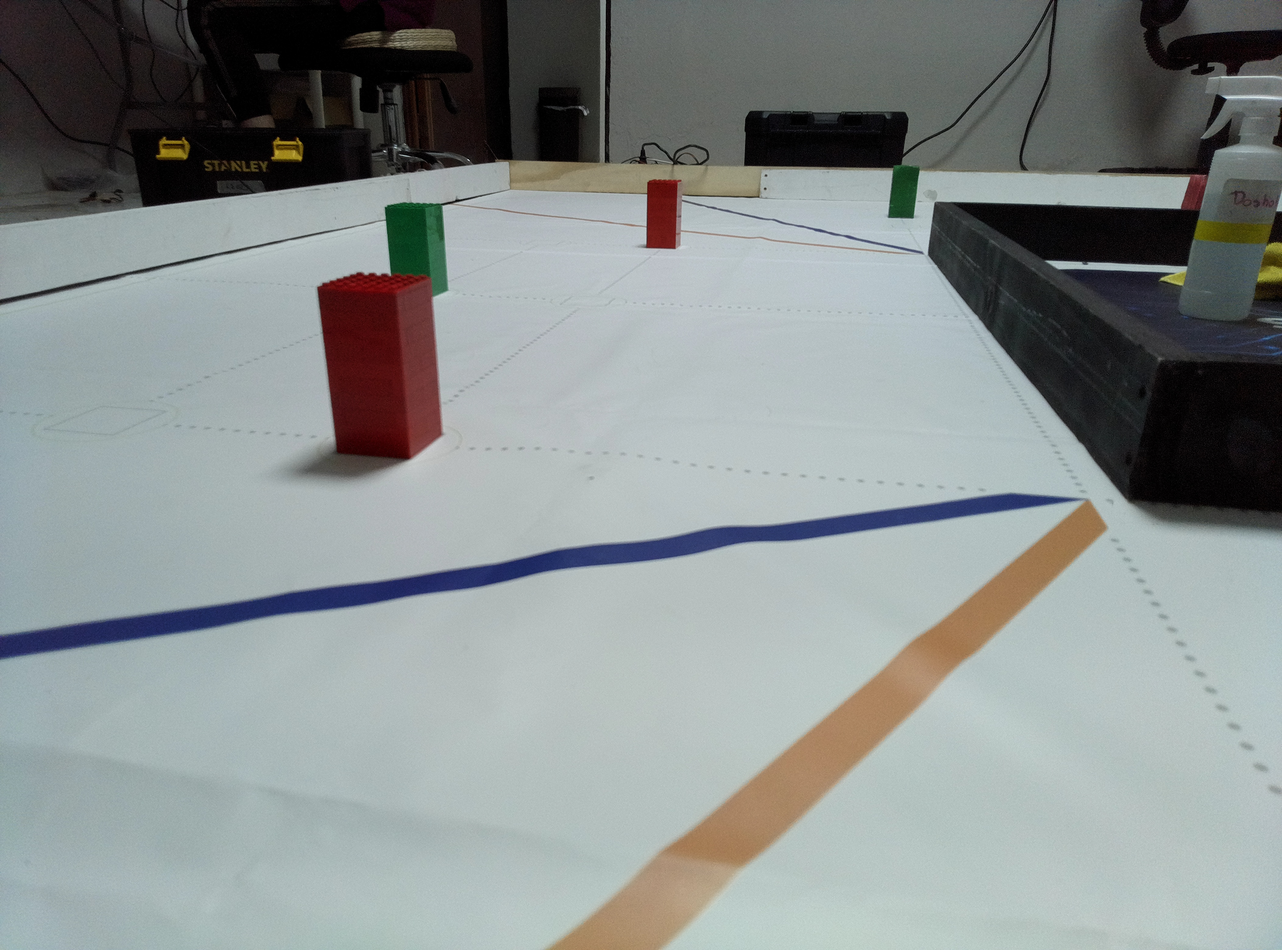greenbox: (383, 201, 450, 300), (885, 165, 922, 219)
redbox: (313, 269, 447, 463), (645, 178, 684, 250), (1179, 173, 1208, 211)
